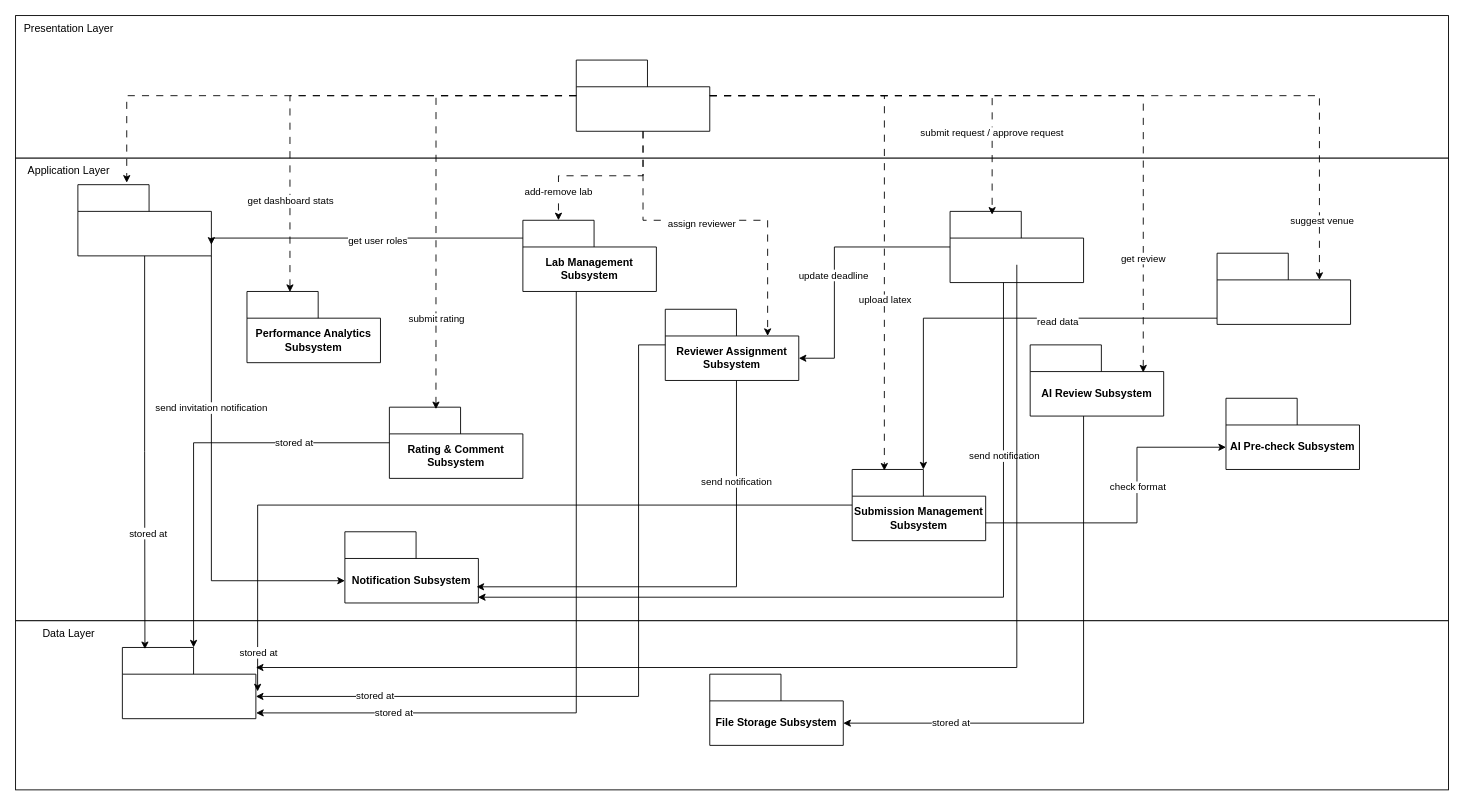
Some shapes in this 1464 by 805 pixel diagram are drawn without their labels. The centre of each missing label's shape, as x and y in pixels:
Access Management Subsystem: (x=144, y=220)
Database Subsystem: (x=188, y=683)
Request Management Subsystem: (x=1016, y=246)
Venue Recommendation Subsystem: (x=1283, y=288)
Web Client Subsystem: (x=642, y=95)
